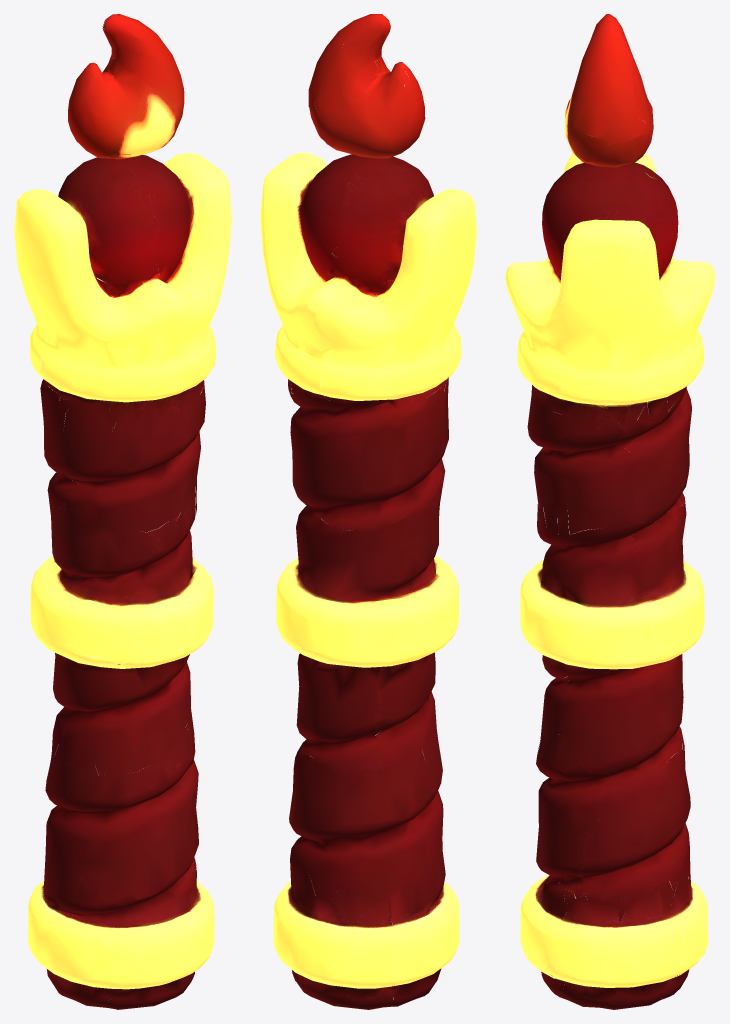
The model's file is Arm_fire_wand-BiawEZ9A.glb.
3 renders of one model, left to right at view 1: azimuth 30°, elevation 25°; view 2: azimuth 150°, elevation 25°; view 3: azimuth 270°, elevation 25°, orthographic.
Parts seen in each view (by area): view 1: Arm_fire_wand; view 2: Arm_fire_wand; view 3: Arm_fire_wand.
Boxes of the visible parts, box(x1,y1,x2,y2) form: Arm_fire_wand: box(14, 14, 231, 1009); Arm_fire_wand: box(260, 14, 476, 1009); Arm_fire_wand: box(505, 14, 715, 1009).
Size of the model in its own units: 0.2016 by 1 by 0.1975.
Materials: 1 (1 with a texture image).
